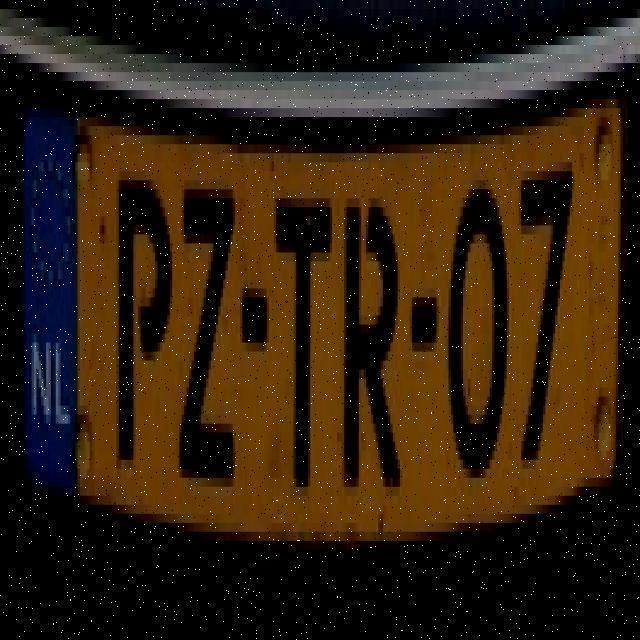License Plate: (10, 36, 634, 572)
